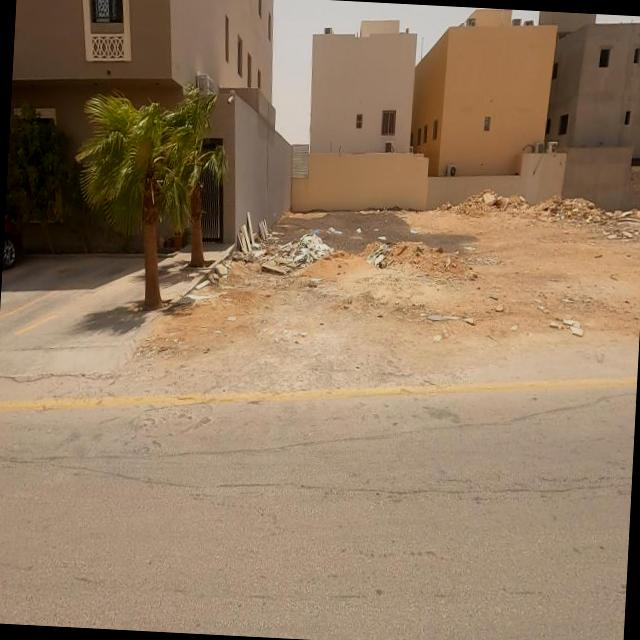debris: (208, 174, 300, 306), (261, 198, 363, 312), (342, 210, 416, 302)
